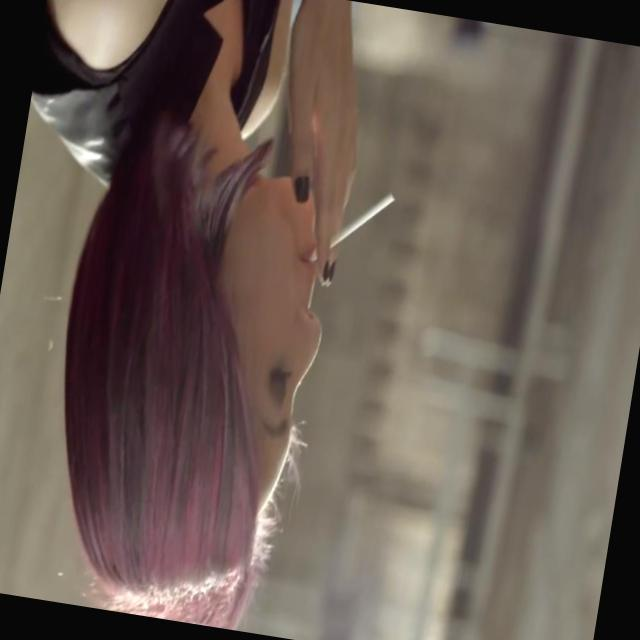smoke: (339, 170, 404, 260)
